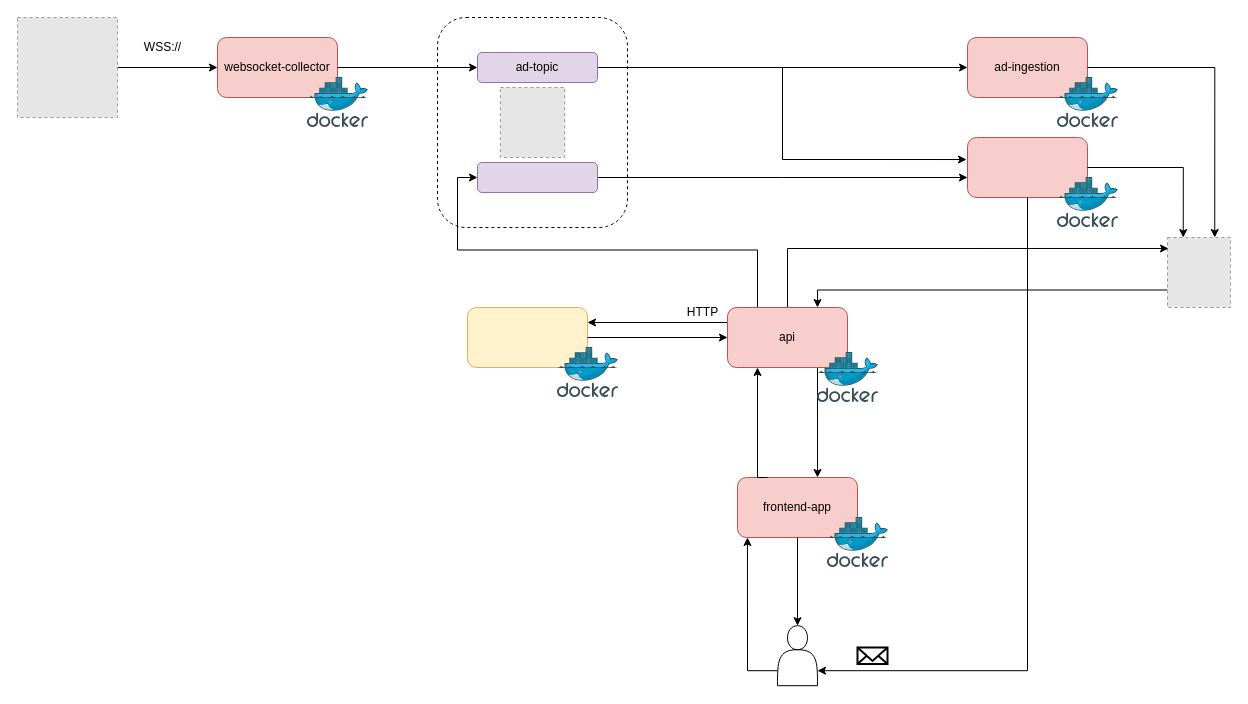
The diagram is 1248 pixels wide and 704 high, and some of its shapes have lost their labels. Grey dashed boxes stand in for pictures. The shapes that lost their labels are listed below. From the top down, each one's box as (x1, y1, x2, y2) in pixels, then its label:
(476, 162, 598, 192): interest-topic
(966, 136, 1088, 198): notifier
(466, 306, 588, 368): query-analyzer
